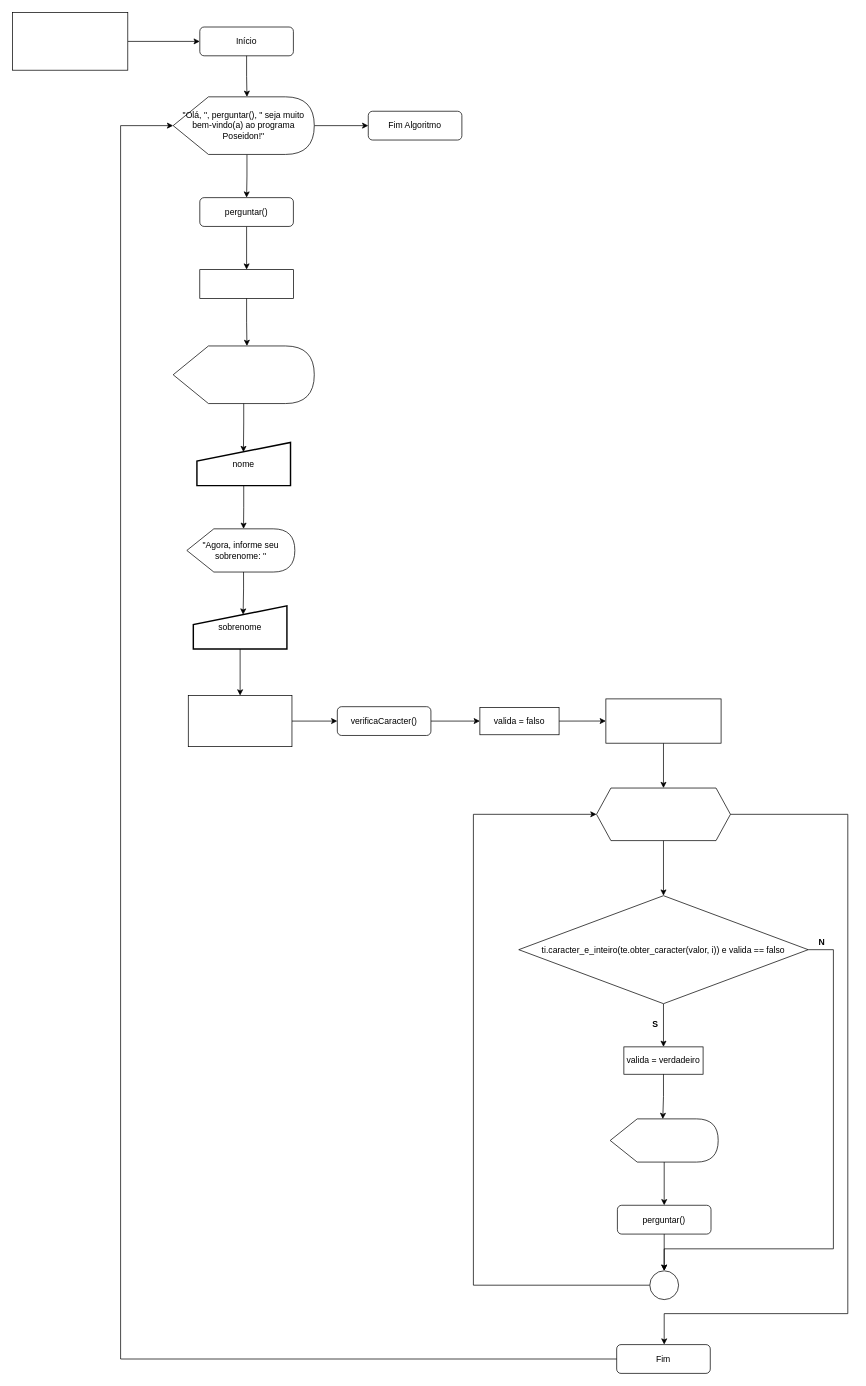
The diagram is 866 pixels wide and 1386 high, and some of its shapes have lost their labels. Here are the shapes that lost their labels. From the top down, the box of each, then its label:
(12, 12, 128, 70): cadeia nome, sobrenome inteiro contaCaracteres logico valida
(199, 269, 293, 298): cadeia nomeCompleto
(172, 345, 314, 404): "Programa Poseidon! Por favor, informe seu nome: "
(188, 695, 292, 747): nomeCompleto = nome + " " + sobrenome
(605, 698, 721, 743): contaCaracteres = te.numero_caracteres(valor)
(596, 787, 730, 841): inteiro i <- 0, contaCaracteres, 1
(609, 1118, 718, 1162): "Caracteres inválidos! Por favor, digite novamente."
